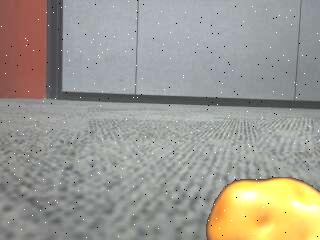Potato: (204, 176, 320, 239)
